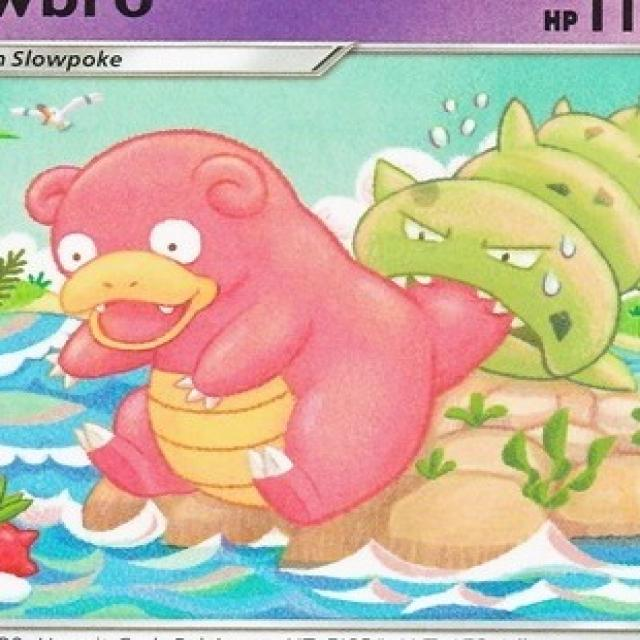Slowbro: (18, 134, 516, 516)
